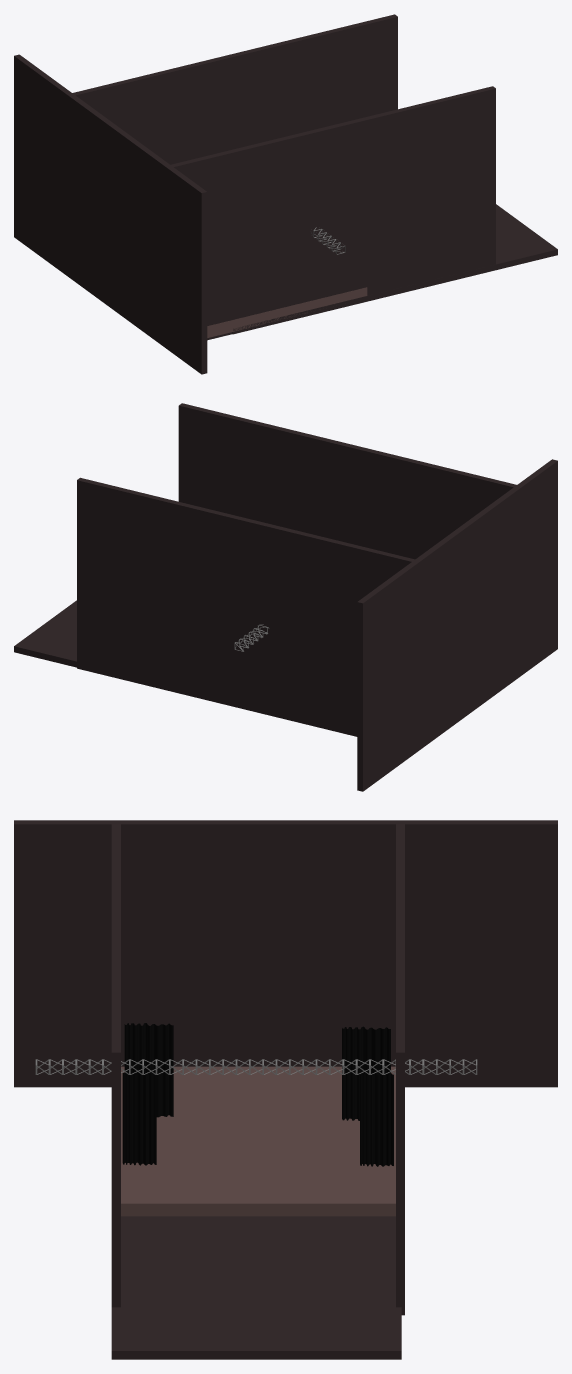
File: stage.glb
The picture shows the model from 3 angles, top to bottom: view 1: azimuth 30°, elevation 25°; view 2: azimuth 150°, elevation 25°; view 3: azimuth 270°, elevation 25°; orthographic projection. The views are drawn at different scales.
Parts seen in each view (by area): view 1: wall-2, wall-2.001, wall, floor, floor.001; view 2: wall, wall-2.001, wall-2, floor; view 3: wall-2.001, floor, floor.001, wall-2, wall, truss, GP_Layer, GP_Layer.001, GP_Layer.002, GP_Layer.003.
Boxes of the visible parts, x1,y1,x2,y2 form: wall-2: (168, 86, 495, 340); wall-2.001: (14, 54, 207, 374); wall: (70, 14, 397, 164); floor: (232, 204, 557, 334); floor.001: (207, 287, 367, 337); wall: (77, 477, 417, 736); wall-2.001: (357, 459, 557, 791); wall-2: (178, 403, 519, 559); floor: (14, 600, 76, 667); wall-2.001: (14, 820, 557, 1087); floor: (111, 1216, 401, 1359); floor.001: (121, 1066, 395, 1216); wall-2: (111, 822, 120, 1307); wall: (396, 822, 404, 1315); truss: (35, 1059, 477, 1074); GP_Layer: (122, 1071, 156, 1165); GP_Layer.001: (360, 1072, 393, 1166); GP_Layer.002: (124, 1023, 173, 1117); GP_Layer.003: (342, 1026, 390, 1120).
Size of the model in its own units: 40.08 by 17.85 by 33.42.
